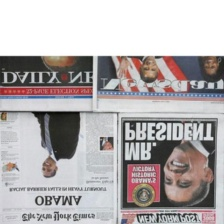news_paper: (0, 110, 118, 223), (116, 109, 224, 224), (92, 54, 224, 114), (0, 53, 96, 111)
